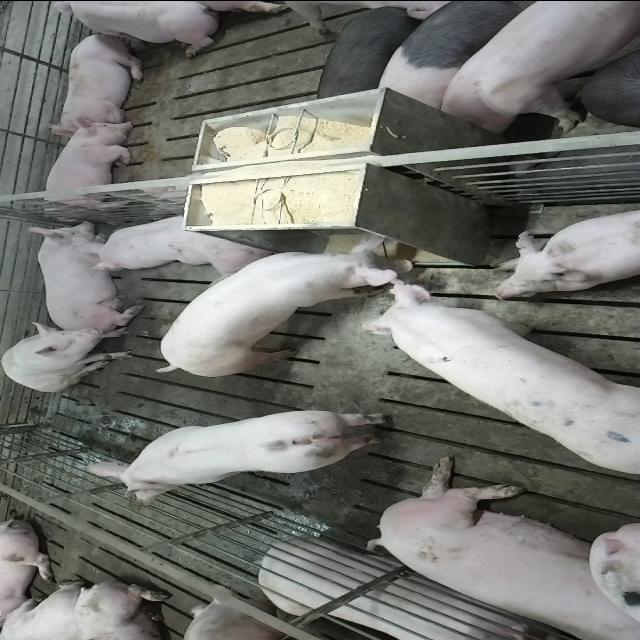Lateral_lying: (367, 453, 640, 636), (257, 537, 565, 640)
Sitting: (3, 322, 137, 391)
Standing: (354, 274, 636, 478), (160, 235, 422, 378), (78, 406, 390, 505), (436, 2, 640, 135), (374, 1, 540, 110), (312, 8, 424, 99)
Sternal_lying: (491, 203, 640, 294), (25, 218, 139, 328), (86, 210, 274, 271), (36, 3, 222, 57), (52, 30, 150, 132), (38, 118, 138, 215)
